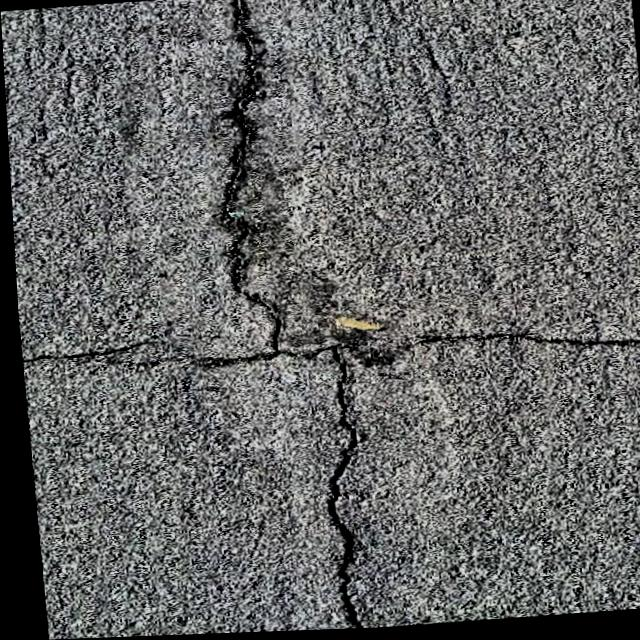cracks: (219, 0, 382, 632), (18, 326, 173, 382), (381, 326, 640, 354)
